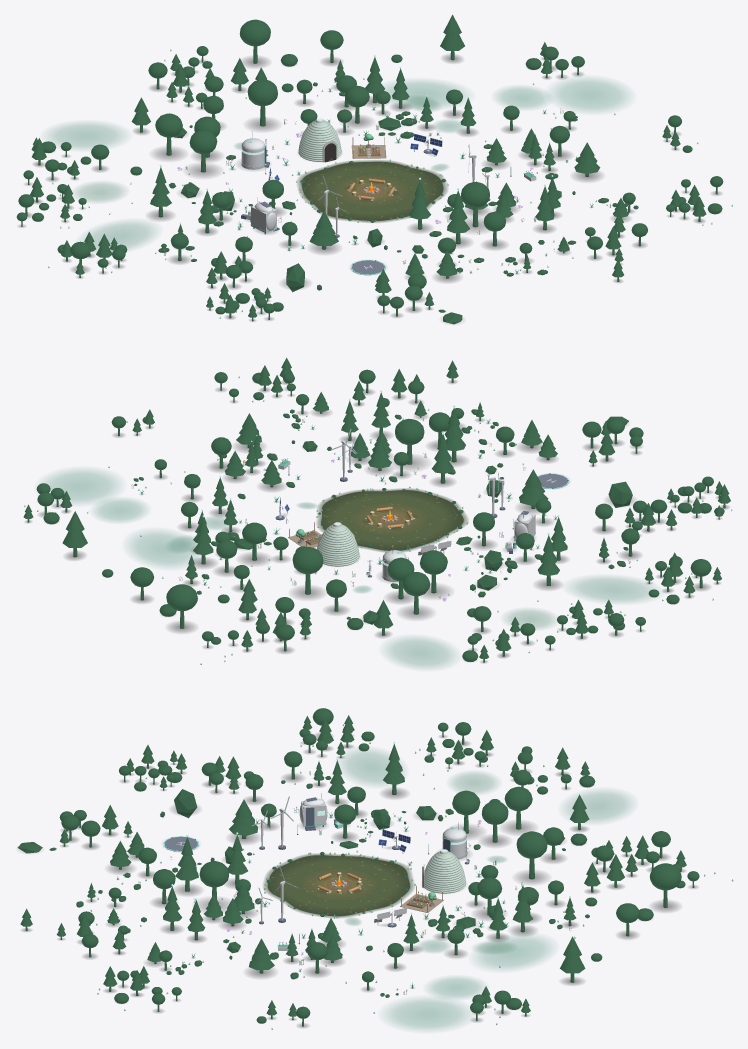
3 views of the same model, one above another, from view 1: azimuth 30°, elevation 25°; view 2: azimuth 150°, elevation 25°; view 3: azimuth 270°, elevation 25° (orthographic).
Size of what is drawn, in the model's own units: 115 by 10.93 by 113.
Materials: 84 (5 with a texture image).
